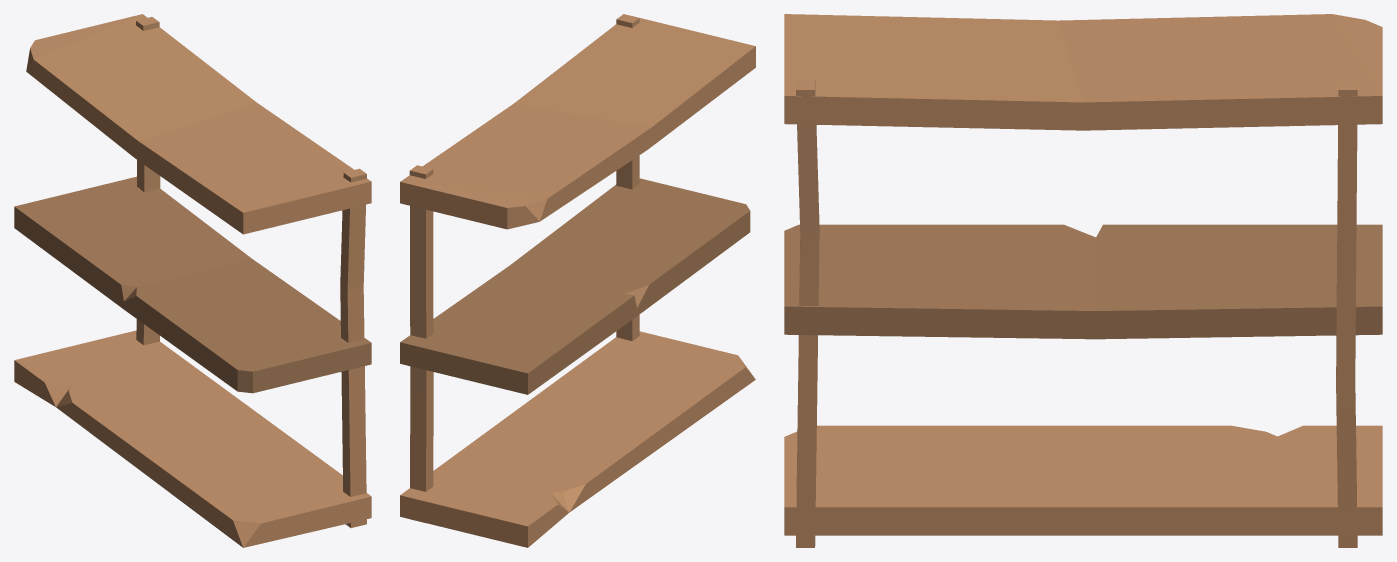
The model's file is Mensole.fbx.
The picture shows the model from 3 angles, left to right: view 1: azimuth 30°, elevation 25°; view 2: azimuth 150°, elevation 25°; view 3: azimuth 270°, elevation 25°; orthographic projection. The views are drawn at different scales.
Visible parts, largest first — view 1: shelf; view 2: shelf; view 3: shelf.
Boxes of the visible parts, x1,y1,x2,y2 form: shelf: [14, 14, 371, 547]; shelf: [400, 14, 755, 547]; shelf: [784, 14, 1382, 547].
Bounding box in the file's own units: 48.85 × 127 × 151.
Materials: 1 (1 with a texture image).
